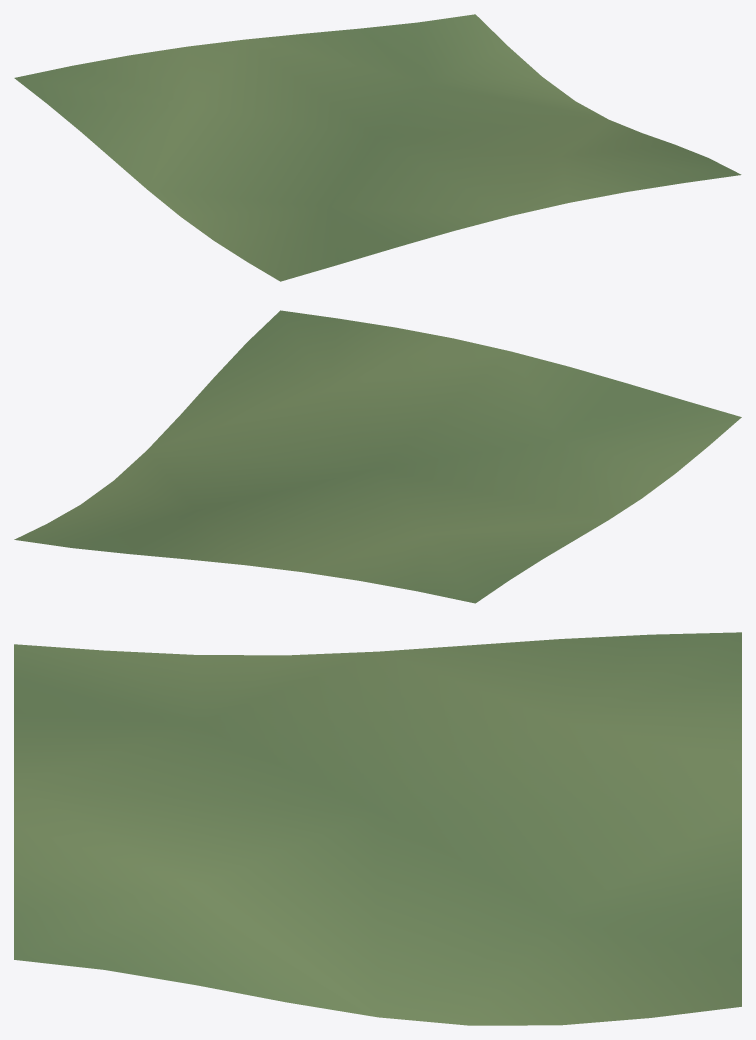
The model's file is Terrain-1-2-4.glb.
3 views of the same model, one above another, from view 1: azimuth 30°, elevation 25°; view 2: azimuth 150°, elevation 25°; view 3: azimuth 270°, elevation 25° (orthographic). The views are drawn at different scales.
Visible parts, largest first — view 1: Terrain-1-2-4; view 2: Terrain-1-2-4; view 3: Terrain-1-2-4.
Boxes of the visible parts, left/top/right/bottom form: Terrain-1-2-4: left=14, top=14, right=741, bottom=281; Terrain-1-2-4: left=14, top=310, right=741, bottom=603; Terrain-1-2-4: left=14, top=632, right=741, bottom=1025.
Bounding box in the file's own units: 6 × 0.7874 × 6.
